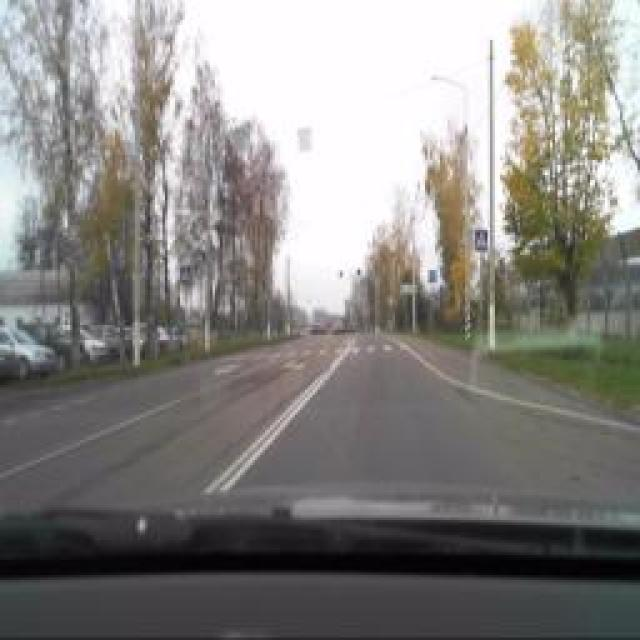sign: (474, 228, 488, 250), (428, 266, 438, 284)
